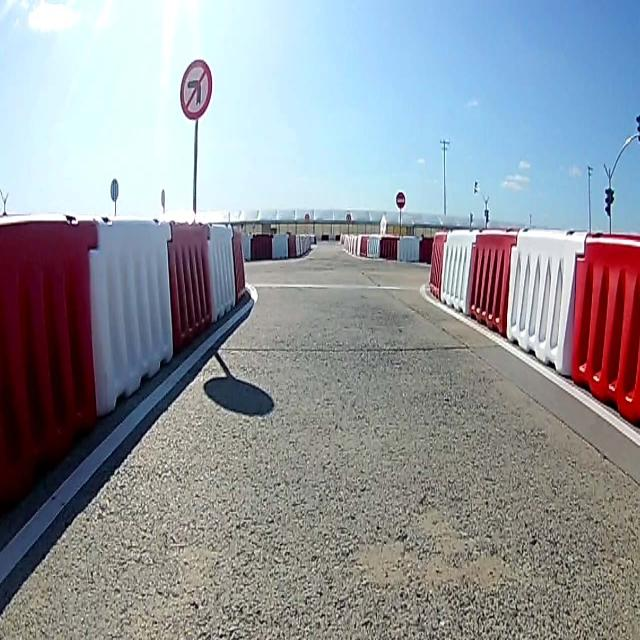girisyok: (396, 190, 406, 208)
soladonulmez: (180, 59, 212, 121)
